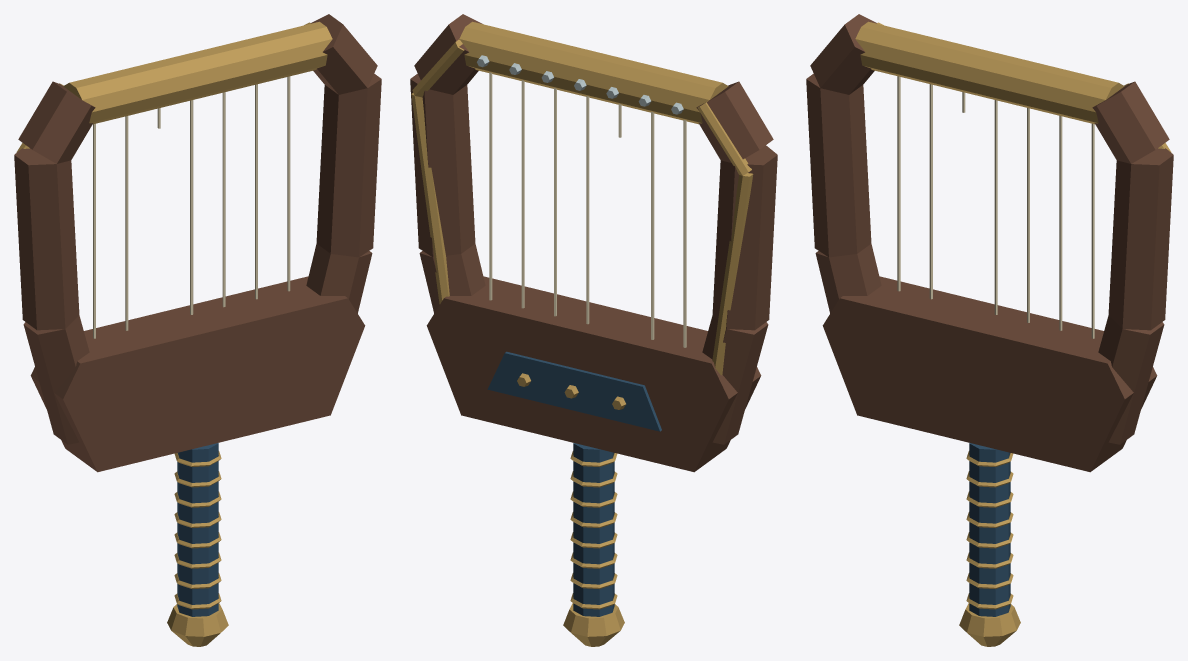
File: BeforeCurtain.fbx
The picture shows the model from 3 angles, left to right: view 1: azimuth 30°, elevation 25°; view 2: azimuth 150°, elevation 25°; view 3: azimuth 330°, elevation 25°; orthographic projection.
Visible parts, largest first — view 1: Legendary_BeforeCurtain; view 2: Legendary_BeforeCurtain; view 3: Legendary_BeforeCurtain.
Boxes of the visible parts, x1,y1,x2,y2 form: Legendary_BeforeCurtain: (14, 14, 381, 646); Legendary_BeforeCurtain: (410, 14, 777, 646); Legendary_BeforeCurtain: (806, 14, 1173, 646).
Size of the model in its own units: 0.8186 by 1.3 by 0.164.
